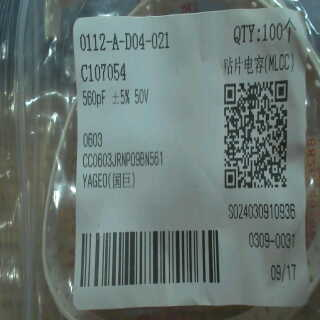560pF: (81, 87, 108, 108)
